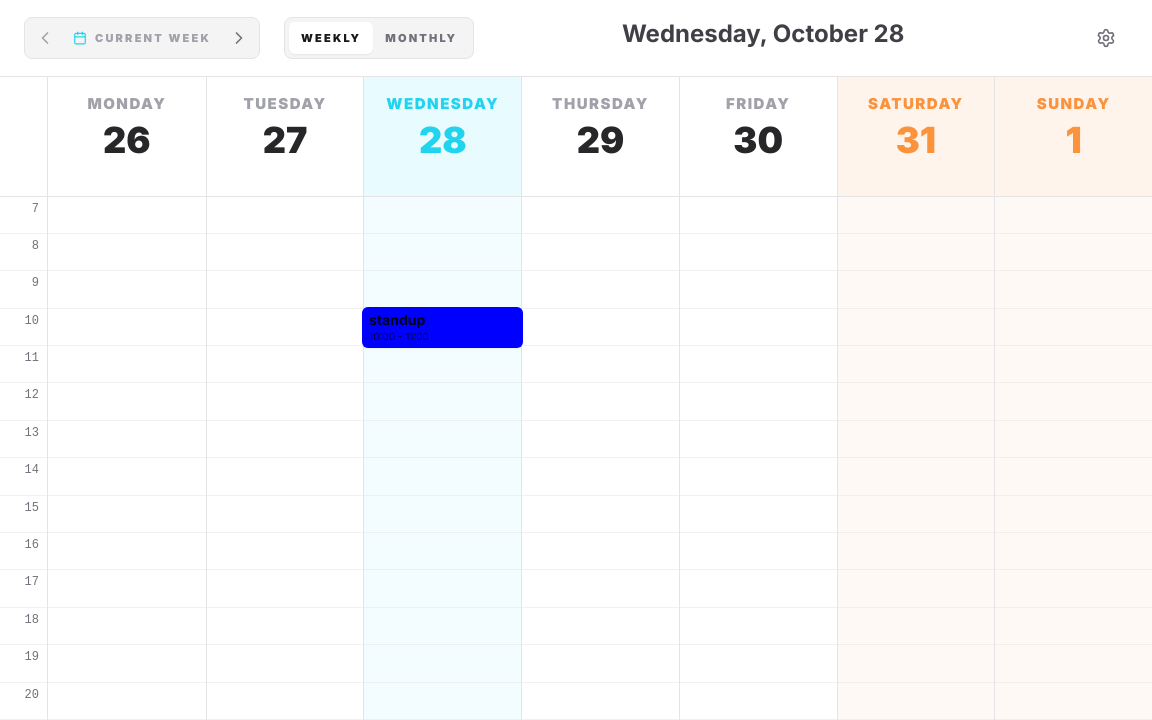
Test case: Dashboard: a month never loaded while Google cannot be reached › Next Week into it: days October's read covered keep their events, with its time
Click the button with test id "next-week-button": (239, 38) [223,22,255,54]
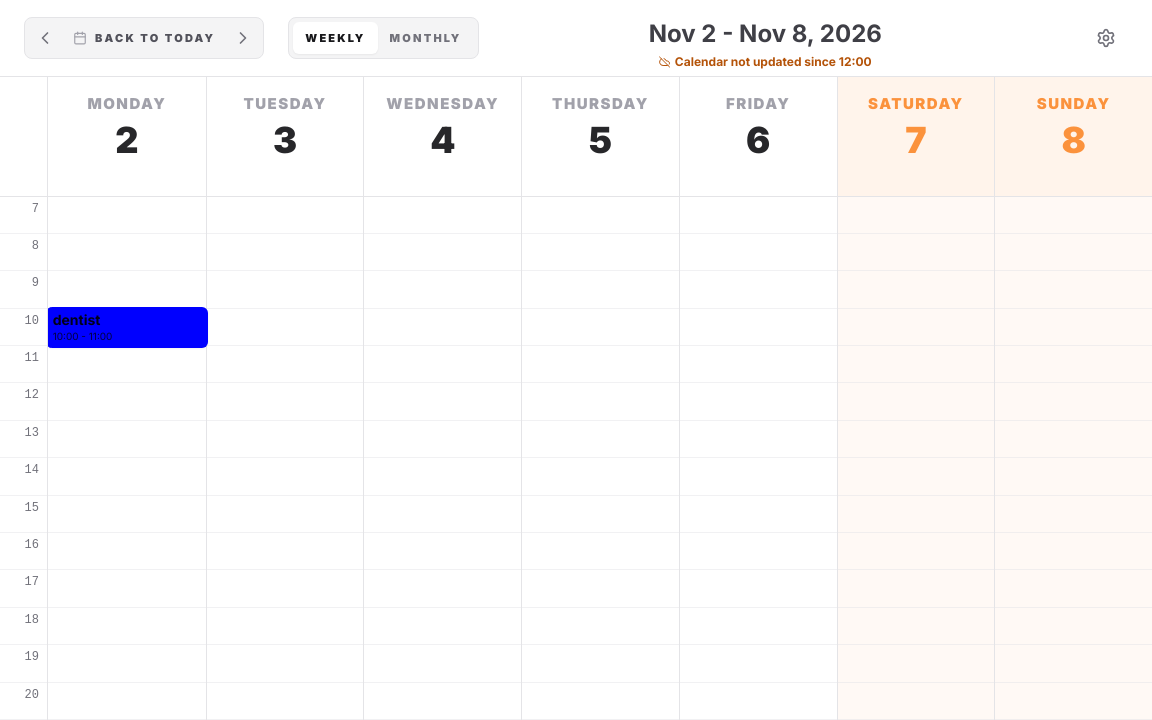
Expected: the element with test id "event-card-dentist" is shown, [48,307,208,348]
Expected: the element with test id "calendar-read-notice" reads "Calendar not updated since 12:00", [675,54,872,69]
